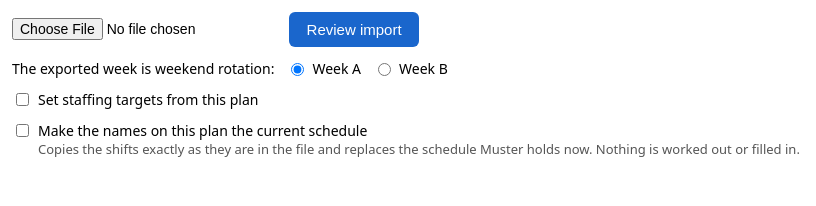
Scenario: PlanImportPanel › asks for a file before it asks the server anything
Click the button "Review import": (354, 29) [289,12,419,47]
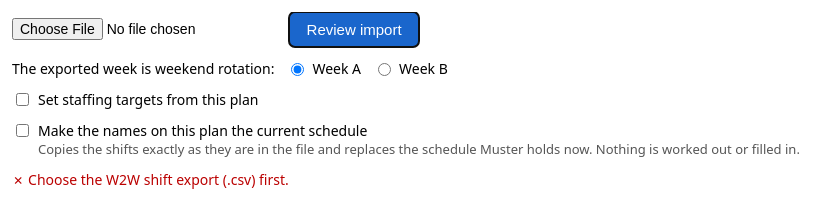
Now the message shows "Choose the W2W shift export (.csv) first.", box [28,170,289,189]
